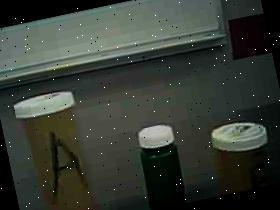Bottle A: (6, 80, 115, 210)
Bottle B: (200, 109, 279, 196)
Bottle C: (128, 112, 204, 210)
